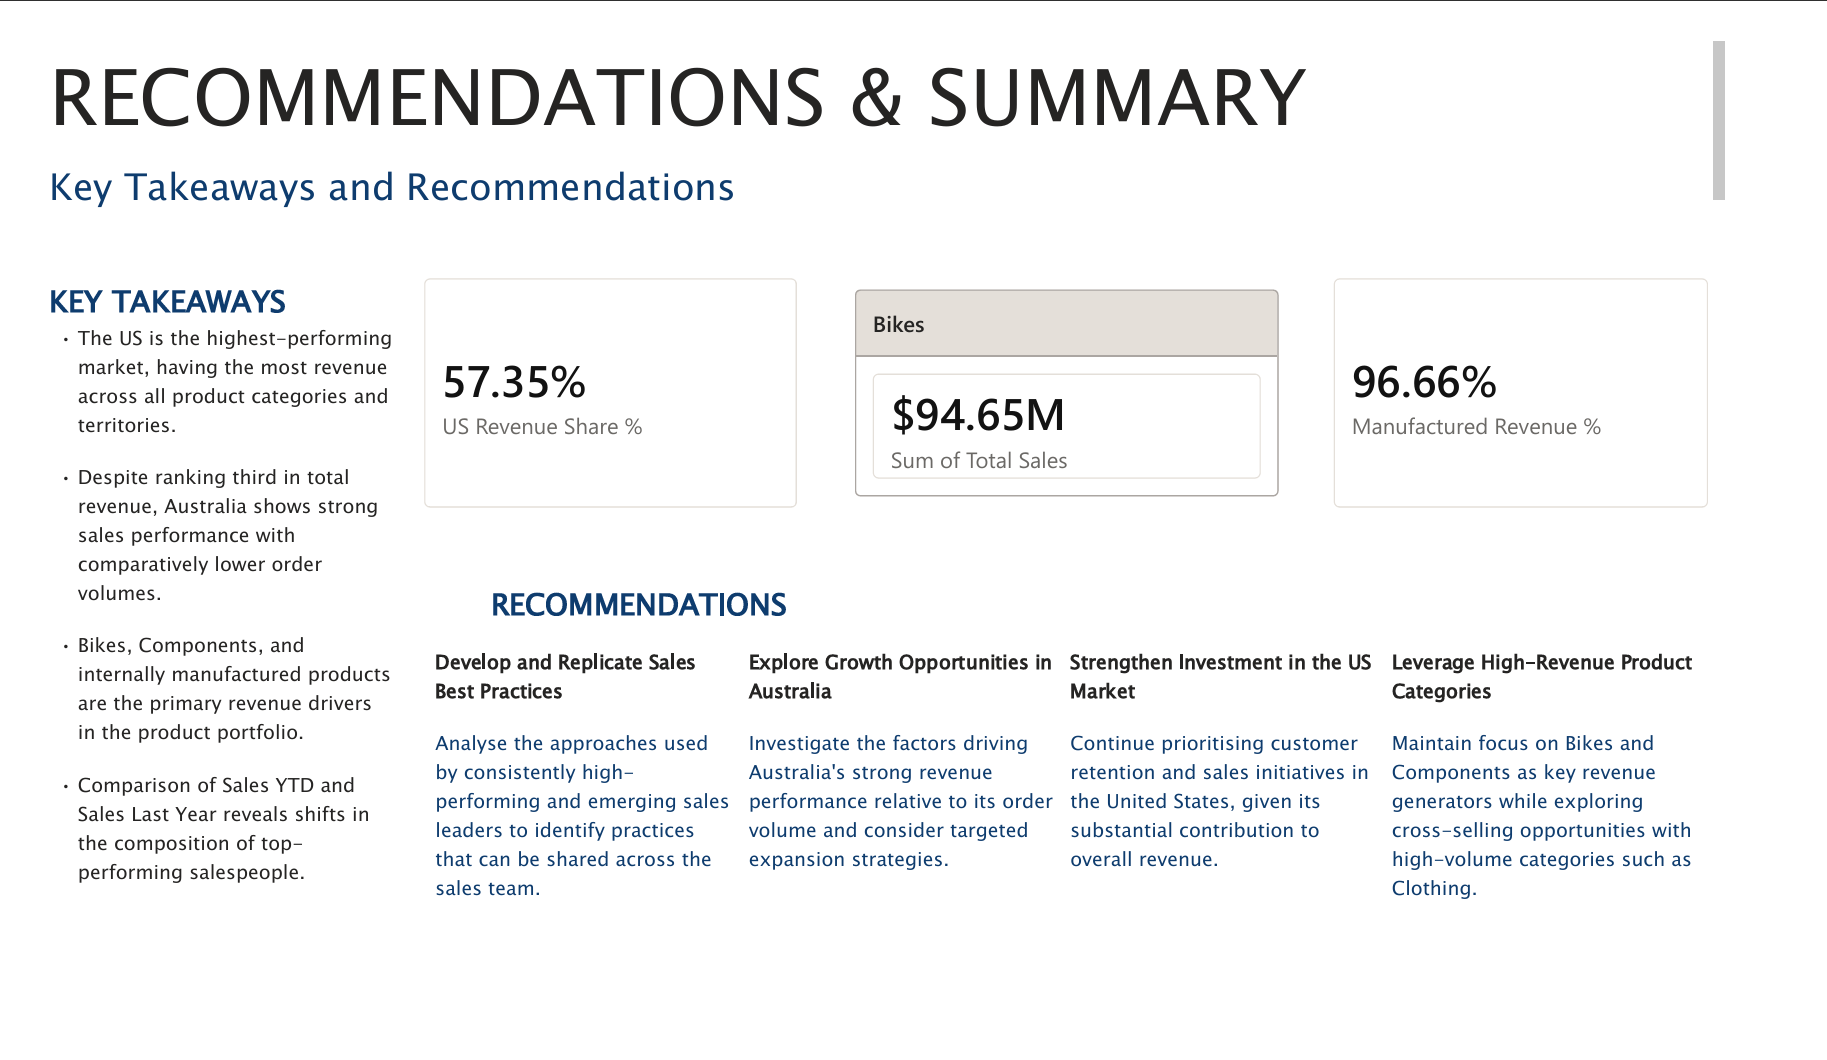

The dashboard page shown, as its layout file describes it:
{"tool":"powerbi","page":{"name":"Page 5","canvas":[1280,720],"ordinal":4},"visuals":[{"type":"textbox","box":[10,0,1223.8,131.2],"z":0},{"type":"textbox","box":[10,172.5,260,462.5],"z":1000},{"type":"textbox","box":[290,392.5,925,47.5],"z":2000},{"type":"textbox","box":[750,440,232.9,215.7],"z":3000},{"type":"textbox","box":[517.1,440,232.9,215.7],"z":4000},{"type":"textbox","box":[982.9,440,232.9,215.7],"z":5000},{"type":"textbox","box":[290,440,227.1,215.7],"z":6000},{"type":"cardVisual","fields":{"Data":["AW SalesTerritory.Top Territory Revenue %"]},"box":[270,160,304.3,200],"z":7000},{"type":"cardVisual","fields":{"Rows":["AW ProductCategory.Name"],"Data":["Sum(AW SalesLine.LineTotal)"]},"box":[594.3,160,317.1,200],"z":8000},{"type":"cardVisual","fields":{"Data":["AW Products.Manufactured Revenue %"]},"box":[928.6,160,305.7,200],"z":9000}]}

Visuals, with their boxes on the page's 1280x720 design canvas (x1, y1, x2, y2). These are canvas units, not pixel positions in the 1827x1060 screenshot, which may show the page scaled, cropped or inside an application window:
textbox: {"x1": 10, "y1": 0, "x2": 1234, "y2": 131}
textbox: {"x1": 10, "y1": 172, "x2": 270, "y2": 635}
textbox: {"x1": 290, "y1": 392, "x2": 1215, "y2": 440}
textbox: {"x1": 750, "y1": 440, "x2": 983, "y2": 656}
textbox: {"x1": 517, "y1": 440, "x2": 750, "y2": 656}
textbox: {"x1": 983, "y1": 440, "x2": 1216, "y2": 656}
textbox: {"x1": 290, "y1": 440, "x2": 517, "y2": 656}
cardVisual - AW SalesTerritory.Top Territory Revenue %: {"x1": 270, "y1": 160, "x2": 574, "y2": 360}
cardVisual - AW ProductCategory.Name x Sum(AW SalesLine.LineTotal): {"x1": 594, "y1": 160, "x2": 911, "y2": 360}
cardVisual - AW Products.Manufactured Revenue %: {"x1": 929, "y1": 160, "x2": 1234, "y2": 360}
